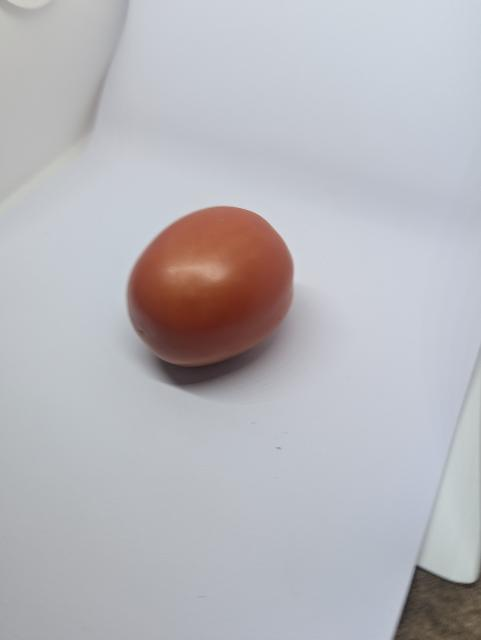red: (109, 192, 311, 376)
